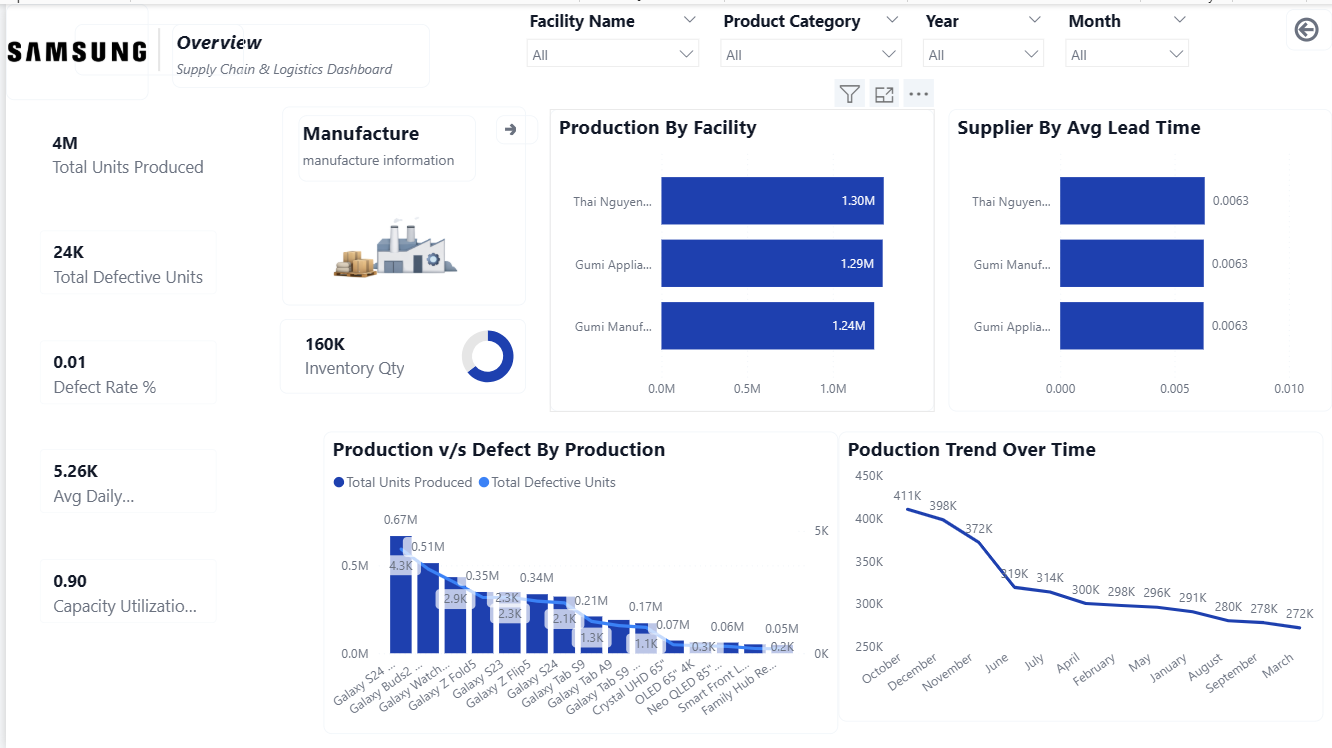

This screenshot's page, from the dashboard's own definition file:
{"tool":"powerbi","page":{"name":"manufacturer","canvas":[1280,720],"ordinal":2},"visuals":[{"type":"shape","title":"Overview","box":[160.5,19.3,248.5,61.5],"z":0},{"type":"shape","box":[66.4,19.3,162.9,49.5],"z":1000},{"type":"image","box":[0,0,137.5,92.9],"z":2000},{"type":"cardVisual","fields":{"Data":["mmeasures.Total Defective Units"]},"box":[15.7,202,205.1,96.5],"z":3000},{"type":"cardVisual","fields":{"Data":["mmeasures.Defect Rate %"]},"box":[15.7,307.4,205.1,96.5],"z":4000},{"type":"cardVisual","fields":{"Data":["mmeasures.Avg Daily Production"]},"box":[15.7,412.8,205.1,96.5],"z":5000},{"type":"cardVisual","fields":{"Data":["mmeasures.Capacity Utilization %"]},"box":[15.7,518.3,205.1,96.5],"z":6000},{"type":"cardVisual","fields":{"Data":["mmeasures.Total Units Produced"]},"box":[15.7,96.5,205.1,96.5],"z":7000},{"type":"clusteredBarChart","title":"Supplier By Avg Lead Time","fields":{"Category":["dim_facility.facility_name"],"Y":["mmeasures.Defect Rate %"]},"box":[909.7,101.3,370.4,292],"z":8000},{"type":"clusteredBarChart","title":"Production By Facility","fields":{"Y":["mmeasures.Total Units Produced"],"Category":["dim_facility.facility_name"]},"box":[524.8,101.3,371.6,292],"z":9000},{"type":"lineChart","title":"Poduction Trend Over Time","fields":{"Category":["dim_date.month_name"],"Y":["mmeasures.Total Units Produced"]},"box":[803.5,412.6,468.1,279.9],"z":10000},{"type":"lineStackedColumnComboChart","title":"Production v/s Defect By Production","fields":{"Category":["dim_product.product_name"],"Y":["mmeasures.Total Units Produced"],"Y2":["mmeasures.Total Defective Units"]},"box":[306.4,412.6,497.1,292],"z":11000},{"type":"slicer","fields":{"Values":["dim_facility.facility_name"]},"box":[492.2,0,187,73.6],"z":12000},{"type":"slicer","fields":{"Values":["dim_product.category"]},"box":[679.2,0,195.4,73.6],"z":13000},{"type":"slicer","fields":{"Values":["dim_date.year"]},"box":[874.7,0,137.5,73.6],"z":14000},{"type":"slicer","fields":{"Values":["dim_date.month_name"]},"box":[1012.2,0,139.9,68.8],"z":15000},{"type":"shape","box":[266.9,98.7,235.3,191.8],"z":16000},{"type":"image","box":[303.1,171.1,137.5,120.6],"z":17000},{"type":"shape","title":"Manufacture","box":[282.5,107.1,171.3,63.9],"z":18000},{"type":"actionButton","box":[473.2,107.1,41,27.7],"z":19000},{"type":"shape","box":[264.5,303.8,237.7,72.4],"z":20000},{"type":"cardVisual","fields":{"Data":["Measures_Table.inventory_value"]},"box":[259.6,292.9,164.1,91.7],"z":21000},{"type":"donutChart","fields":{"Y":["Measures_Table.inventory_value","Measures_Table.safety_stock"]},"box":[375.2,304,179.8,72.4],"z":22000},{"type":"actionButton","box":[1235.4,4.8,44.6,39.8],"z":23000}]}

Visuals, with their boxes on the page's 1280x720 design canvas (x1, y1, x2, y2). These are canvas units, not pixel positions in the 1332x748 screenshot, which may show the page scaled, cropped or inside an application window:
"Overview" shape: bbox=(160, 19, 409, 81)
shape: bbox=(66, 19, 229, 69)
image: bbox=(0, 0, 138, 93)
cardVisual - mmeasures.Total Defective Units: bbox=(16, 202, 221, 298)
cardVisual - mmeasures.Defect Rate %: bbox=(16, 307, 221, 404)
cardVisual - mmeasures.Avg Daily Production: bbox=(16, 413, 221, 509)
cardVisual - mmeasures.Capacity Utilization %: bbox=(16, 518, 221, 615)
cardVisual - mmeasures.Total Units Produced: bbox=(16, 96, 221, 193)
"Supplier By Avg Lead Time" clusteredBarChart: bbox=(910, 101, 1280, 393)
"Production By Facility" clusteredBarChart: bbox=(525, 101, 896, 393)
"Poduction Trend Over Time" lineChart: bbox=(804, 413, 1272, 692)
"Production v/s Defect By Production" lineStackedColumnComboChart: bbox=(306, 413, 804, 705)
slicer - dim_facility.facility_name: bbox=(492, 0, 679, 74)
slicer - dim_product.category: bbox=(679, 0, 875, 74)
slicer - dim_date.year: bbox=(875, 0, 1012, 74)
slicer - dim_date.month_name: bbox=(1012, 0, 1152, 69)
shape: bbox=(267, 99, 502, 290)
image: bbox=(303, 171, 441, 292)
"Manufacture" shape: bbox=(282, 107, 454, 171)
actionButton: bbox=(473, 107, 514, 135)
shape: bbox=(264, 304, 502, 376)
cardVisual - Measures_Table.inventory_value: bbox=(260, 293, 424, 385)
donutChart - Measures_Table.inventory_value x Measures_Table.safety_stock: bbox=(375, 304, 555, 376)
actionButton: bbox=(1235, 5, 1280, 45)
